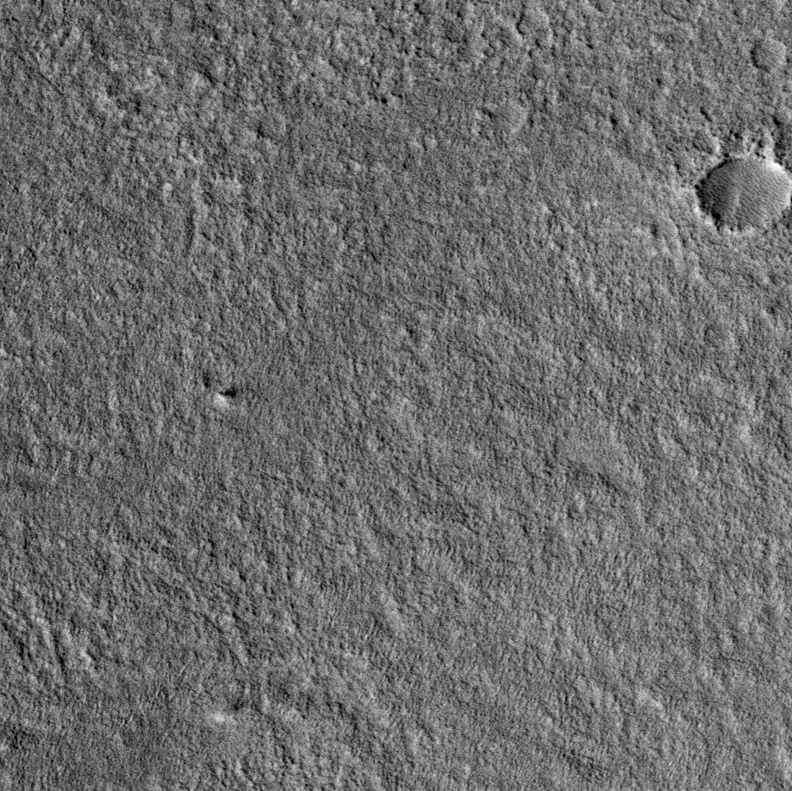dust_devil: (209, 697, 265, 726), (212, 381, 250, 406)
